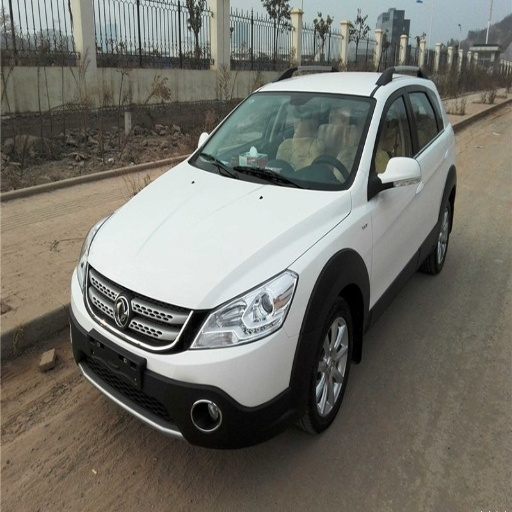front_bumper: (73, 270, 301, 447)
front_glass: (190, 92, 375, 190)
front_left_door: (368, 86, 418, 298)
